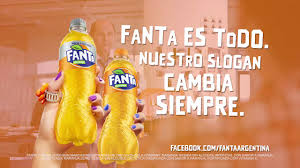fanta: (62, 21, 94, 140), (108, 51, 135, 157)
